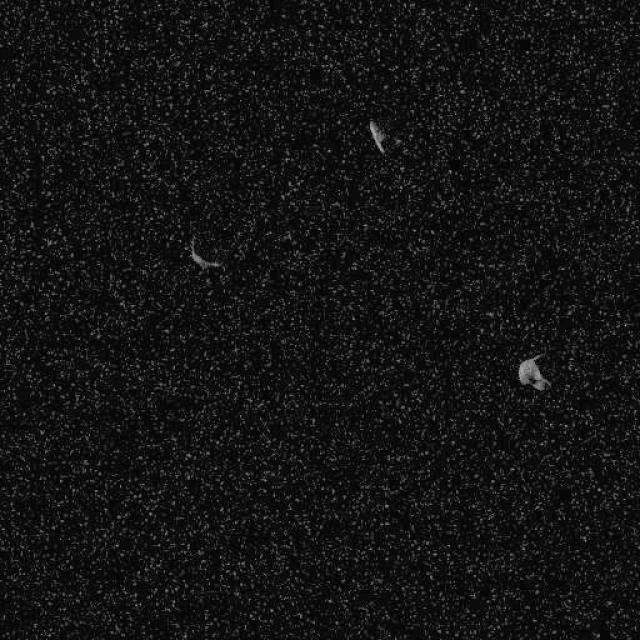D2: (516, 352, 550, 392), (186, 236, 224, 270), (368, 118, 387, 154)
